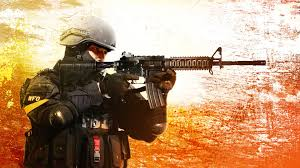gun: (50, 45, 267, 106)
